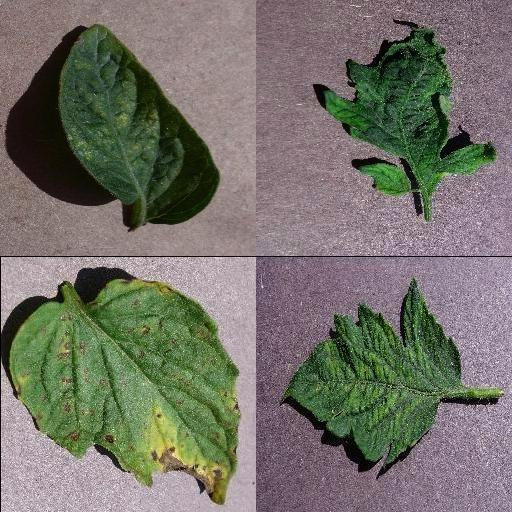Mosaic Virus: (280, 274, 460, 468), (321, 27, 500, 197)
Septoria: (8, 278, 237, 506)
Spider Mites: (57, 25, 219, 225)
